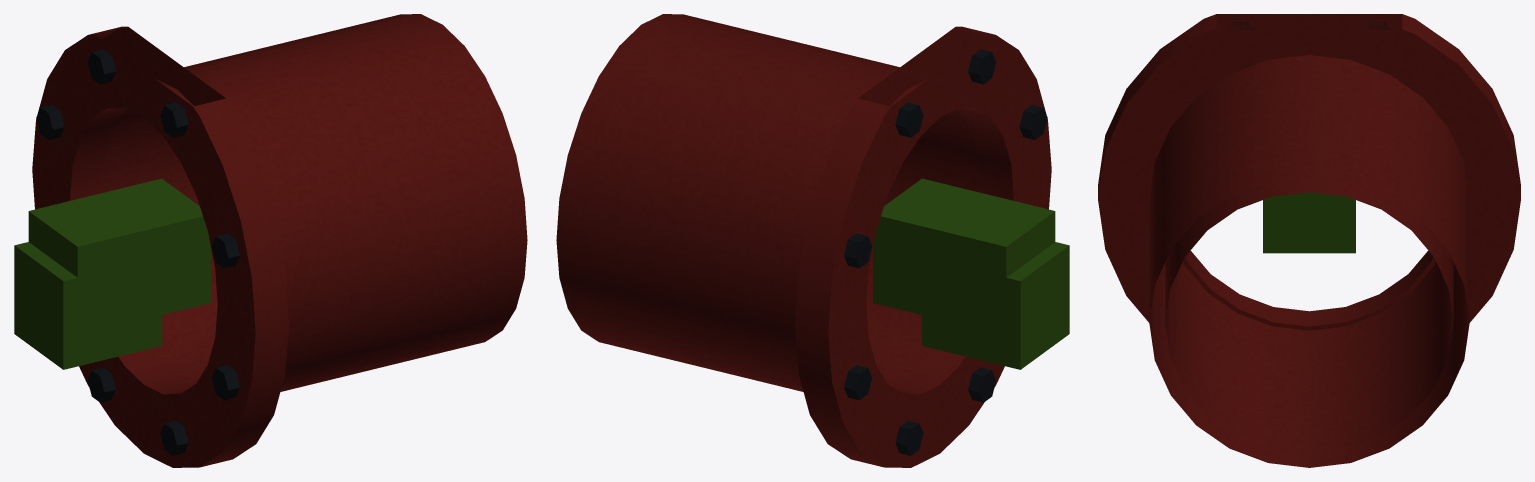
The model's file is cell_32.obj.
3 views of the same model, side by side, from view 1: azimuth 30°, elevation 25°; view 2: azimuth 150°, elevation 25°; view 3: azimuth 270°, elevation 25° (orthographic). The views are drawn at different scales.
Visible parts, largest first — view 1: cell_32; view 2: cell_32; view 3: cell_32.
Part boxes in pixels (<box>): cell_32: <box>14,14,527,467</box>; cell_32: <box>556,14,1069,467</box>; cell_32: <box>1098,14,1520,467</box>.
Bounding box in the file's own units: 1 × 0.9062 × 0.9583.
